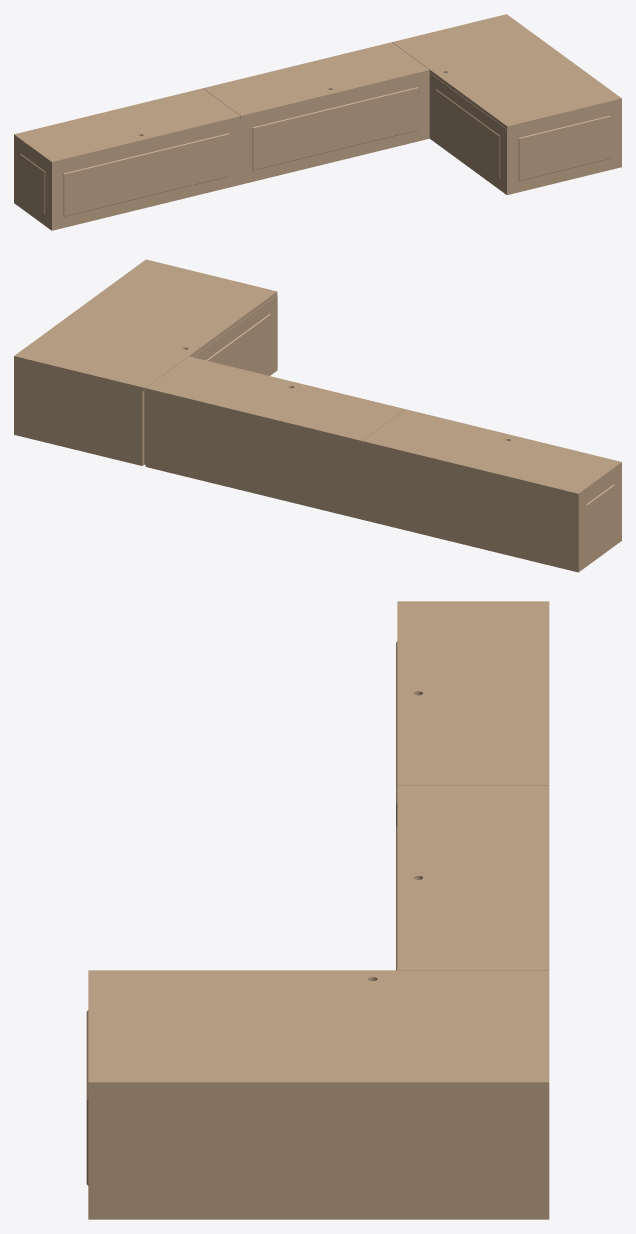
File: corner-storage-bench-kings-park.glb
The picture shows the model from 3 angles, top to bottom: view 1: azimuth 30°, elevation 25°; view 2: azimuth 150°, elevation 25°; view 3: azimuth 270°, elevation 25°; orthographic projection. The views are drawn at different scales.
Parts seen in each view (by area): view 1: Lid corner (hinged at the right wall), Lid left (hinged at the wall), Lid middle (hinged at the wall), Field, front left, Field, front middle, Front left, Front middle, Field, end of the return, End of the return, Field, side facing the room, Side, facing the room, Left end (+1 smaller); view 2: Back, long run, Lid corner (hinged at the right wall), Lid left (hinged at the wall), Lid middle (hinged at the wall), Back, corner box, Left end, Field, side facing the room, Side, facing the room, Field, left end; view 3: Side, against the wall, Lid corner (hinged at the right wall), Lid middle (hinged at the wall), Lid left (hinged at the wall), End of the return.
Part boxes in pixels (x1,y1,x2,y2): Lid corner (hinged at the right wall): [392, 14, 621, 129]; Lid left (hinged at the wall): [14, 88, 240, 164]; Lid middle (hinged at the wall): [203, 42, 429, 118]; Field, front left: [63, 133, 229, 216]; Field, front middle: [252, 87, 418, 170]; Front left: [50, 119, 240, 230]; Front middle: [240, 73, 429, 184]; Field, end of the return: [518, 115, 610, 180]; End of the return: [505, 101, 621, 194]; Field, side facing the room: [436, 89, 500, 178]; Side, facing the room: [429, 73, 505, 193]; Left end: [14, 137, 50, 229]; Back, long run: [145, 392, 574, 571]; Lid corner (hinged at the right wall): [14, 259, 277, 391]; Lid left (hinged at the wall): [362, 409, 621, 497]; Lid middle (hinged at the wall): [145, 356, 405, 444]; Back, corner box: [17, 360, 144, 465]; Left end: [575, 467, 619, 572]; Field, side facing the room: [206, 314, 270, 372]; Side, facing the room: [144, 296, 275, 464]; Field, left end: [586, 484, 614, 553]; Side, against the wall: [95, 1088, 549, 1219]; Lid corner (hinged at the right wall): [88, 970, 549, 1088]; Lid middle (hinged at the wall): [397, 785, 549, 970]; Lid left (hinged at the wall): [397, 601, 549, 785]; End of the return: [88, 1088, 94, 1219].
Size of the model in its own units: 3 by 0.4 by 1.22.
